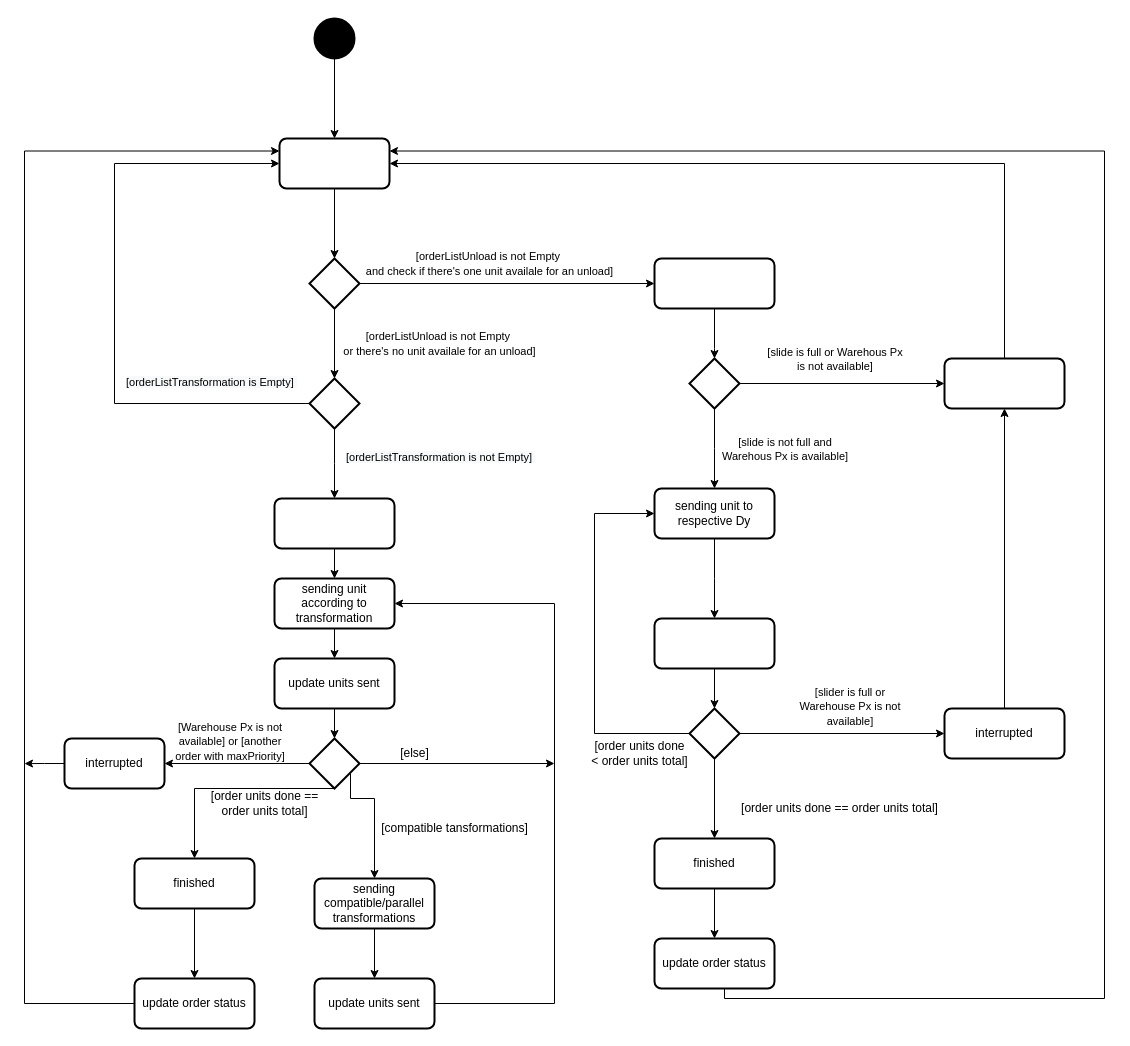
This 1130x1046 diagram has some shape labels left out. Each missing label, with the centre of its shape:
add to the end of the list: point (1004, 383)
Enter infinite loop: point (334, 163)
get Max priority and available Transformation: point (334, 523)
remove first from list: point (714, 283)
update unit sent: point (714, 643)
